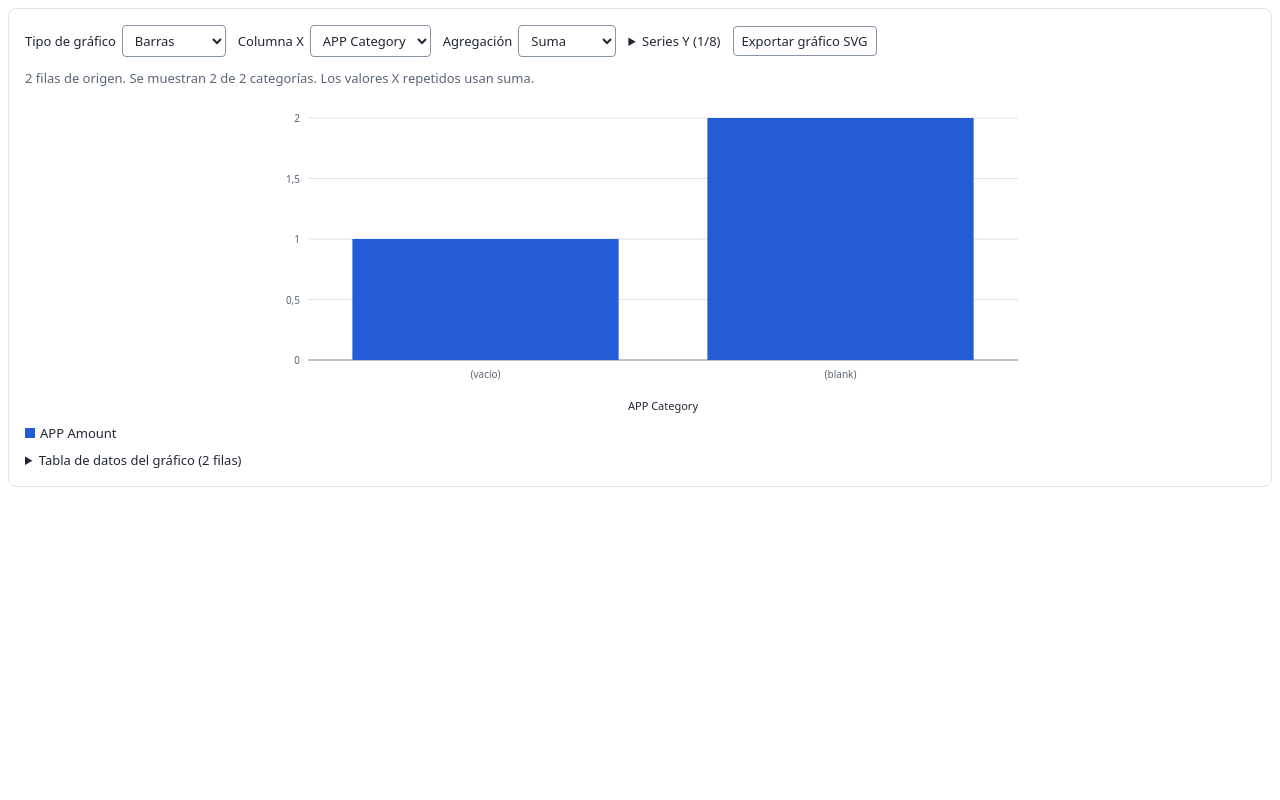
Scenario: chart localization › localizes the owned blank category without translating an application string with the same English label
Click the heading "Tabla de datos del gráfico (2 filas)" at (140, 460), box [39,451,242,469]
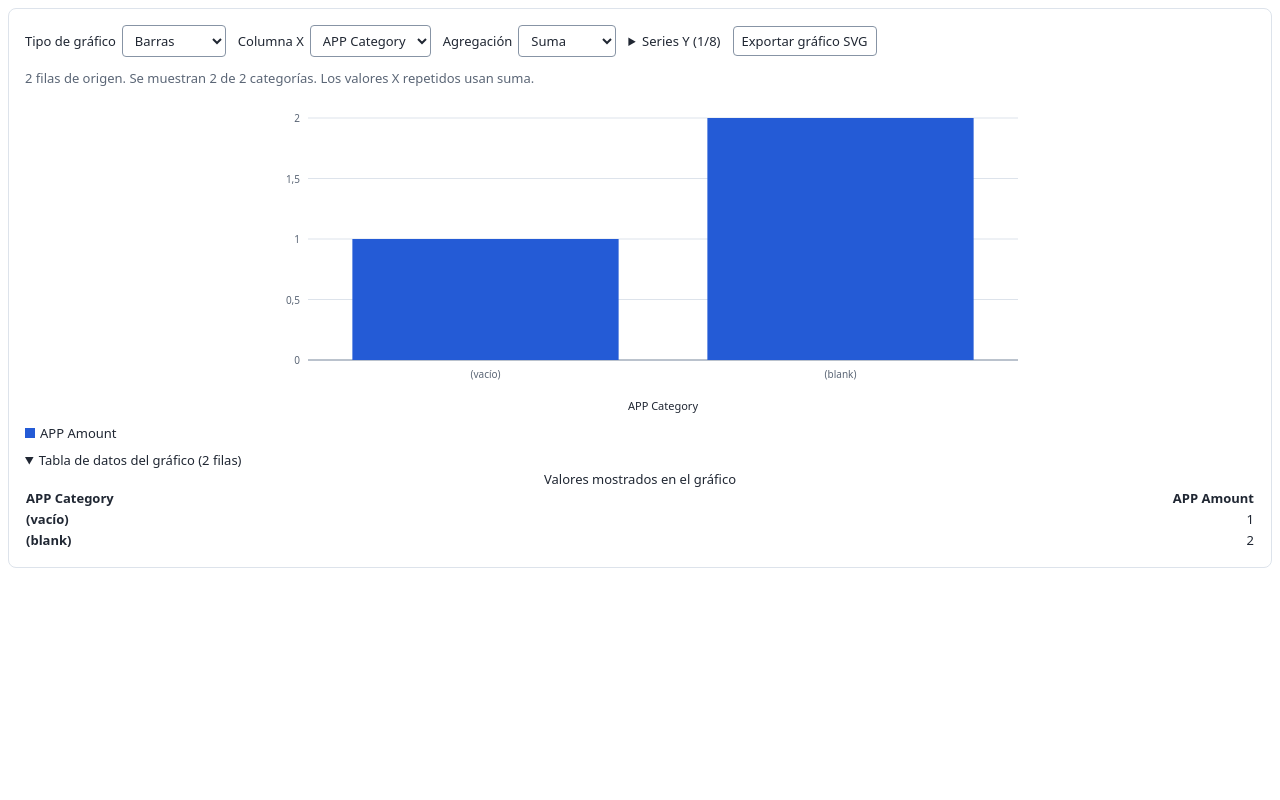
Expected: the column heading "(vacío)" is shown, [25,509,663,530]
Expected: the column heading "(blank)" is shown, [25,530,663,551]
